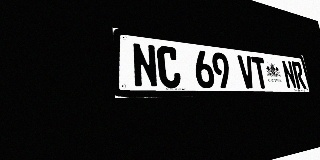6: (193, 50, 216, 88)
9: (211, 52, 232, 88)
C: (156, 45, 182, 88)
N: (131, 42, 159, 88), (281, 60, 297, 89)
R: (291, 61, 307, 89)
T: (251, 56, 269, 89)
V: (237, 55, 256, 88)
